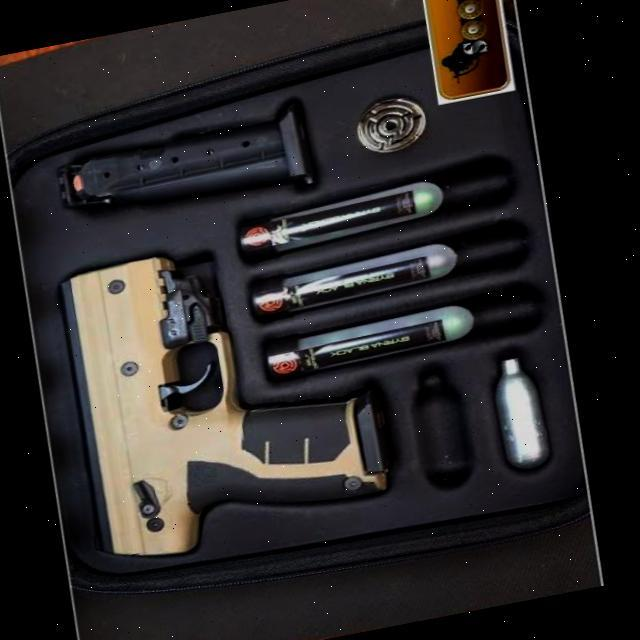gun: (61, 220, 399, 567)
